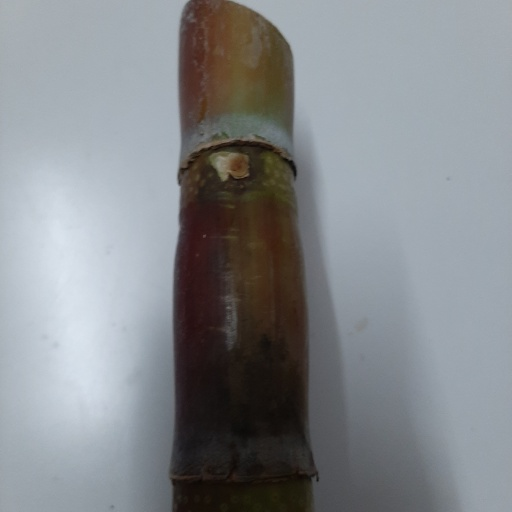Damage_Bud: (224, 149, 249, 179)
